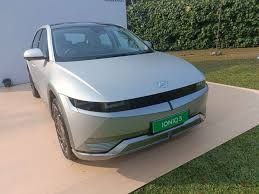Honda Ioniq: (21, 14, 218, 161)
